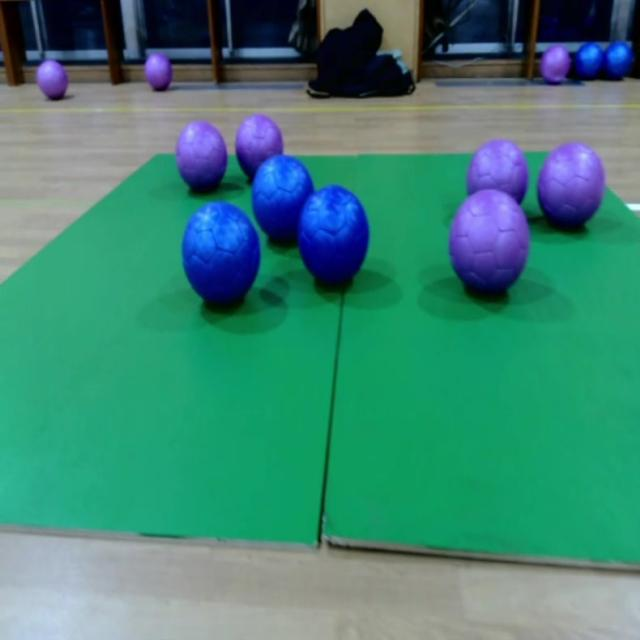blue_ball: (184, 202, 258, 298), (300, 185, 368, 281), (254, 156, 314, 236), (576, 40, 602, 79), (604, 40, 630, 76)
purple_ball: (451, 193, 530, 291), (538, 142, 605, 224), (468, 137, 527, 210), (178, 122, 228, 189), (236, 116, 285, 172), (541, 42, 570, 84), (38, 60, 65, 99), (147, 53, 172, 88)
